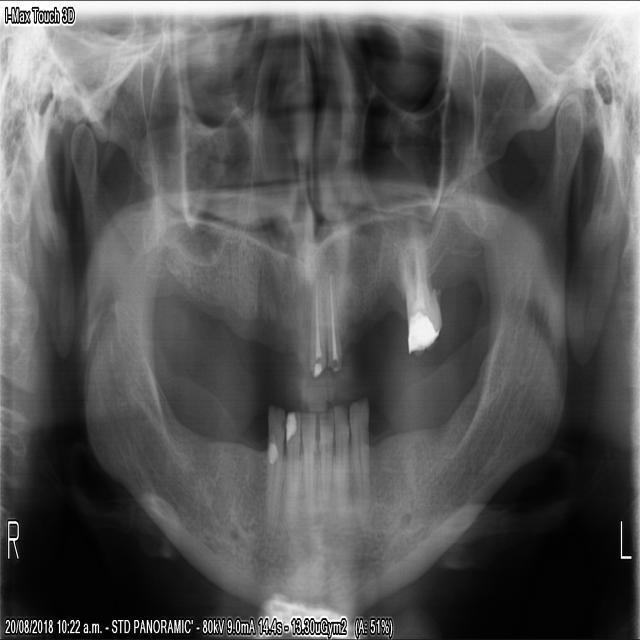LCD: (349, 394, 370, 500)
LID: (334, 400, 348, 504), (318, 412, 334, 498)
LIU: (324, 260, 345, 380), (308, 262, 326, 379)
LMU: (398, 220, 444, 359)
RCD: (266, 403, 284, 529)
RID: (284, 404, 300, 522), (301, 408, 317, 513)
